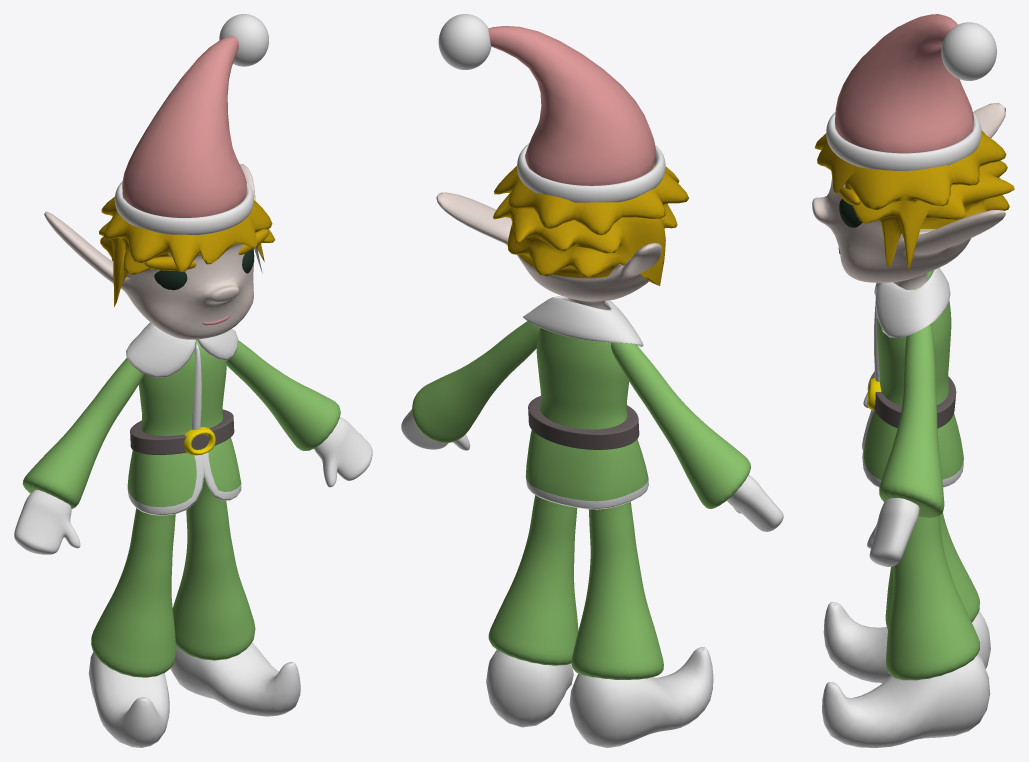
The model's file is little_elf.fbx.
3 renders of one model, left to right at view 1: azimuth 30°, elevation 25°; view 2: azimuth 150°, elevation 25°; view 3: azimuth 270°, elevation 25°, orthographic. The views are drawn at different scales.
Parts seen in each view (by area): view 1: pSphere8; view 2: pSphere8; view 3: pSphere8.
Boxes of the visible parts, bbox=[...] form: pSphere8: bbox=[14, 14, 372, 747]; pSphere8: bbox=[401, 14, 783, 747]; pSphere8: bbox=[812, 14, 1014, 747].
Bounding box in the file's own units: 17.09 × 30.21 × 7.57.
